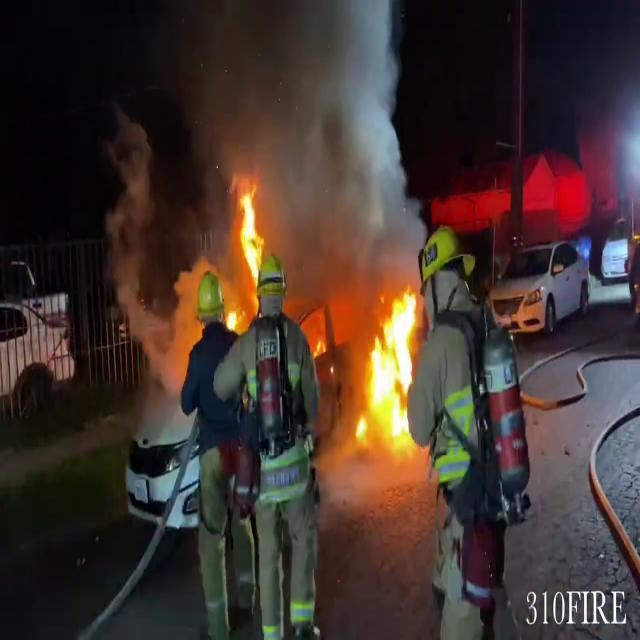Fire: (356, 283, 422, 453), (234, 177, 266, 308)
Smoke: (150, 1, 422, 272)
